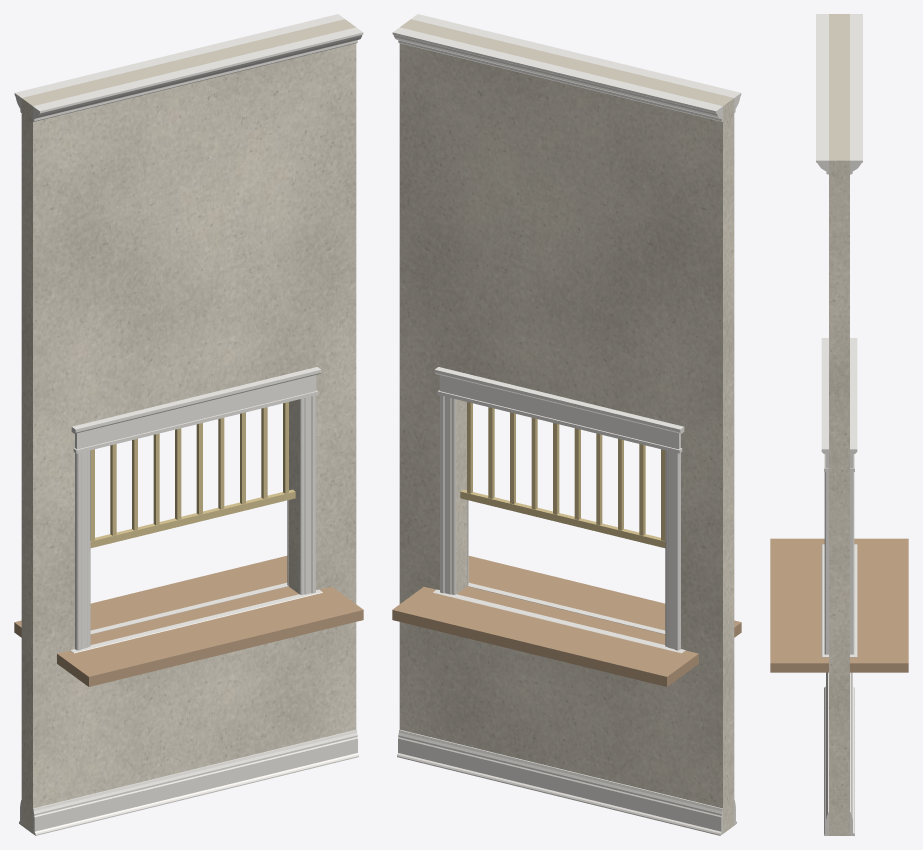
File: interior_wall_counter.glb
The picture shows the model from 3 angles, left to right: view 1: azimuth 30°, elevation 25°; view 2: azimuth 150°, elevation 25°; view 3: azimuth 270°, elevation 25°; orthographic projection. The views are drawn at different scales.
Parts seen in each view (by area): view 1: interior_wall_counter_plaster, molduras, interior_wall_counter_wood, interior_wall_counter_brass; view 2: interior_wall_counter_plaster, molduras, interior_wall_counter_wood, interior_wall_counter_brass; view 3: interior_wall_counter_plaster, interior_wall_counter_wood, molduras.
Boxes of the visible parts, <box> form: interior_wall_counter_plaster: <box>21,19,356,833</box>; molduras: <box>14,14,363,835</box>; interior_wall_counter_wood: <box>14,556,363,686</box>; interior_wall_counter_brass: <box>90,402,295,547</box>; interior_wall_counter_plaster: <box>399,19,734,833</box>; molduras: <box>392,14,741,835</box>; interior_wall_counter_wood: <box>392,556,741,686</box>; interior_wall_counter_brass: <box>460,402,665,547</box>; interior_wall_counter_plaster: <box>829,14,849,835</box>; interior_wall_counter_wood: <box>770,538,908,672</box>; molduras: <box>816,14,862,835</box>.
Bounding box in the file's own units: 2 × 4.3 × 0.8.
4 materials, 1 textured.
